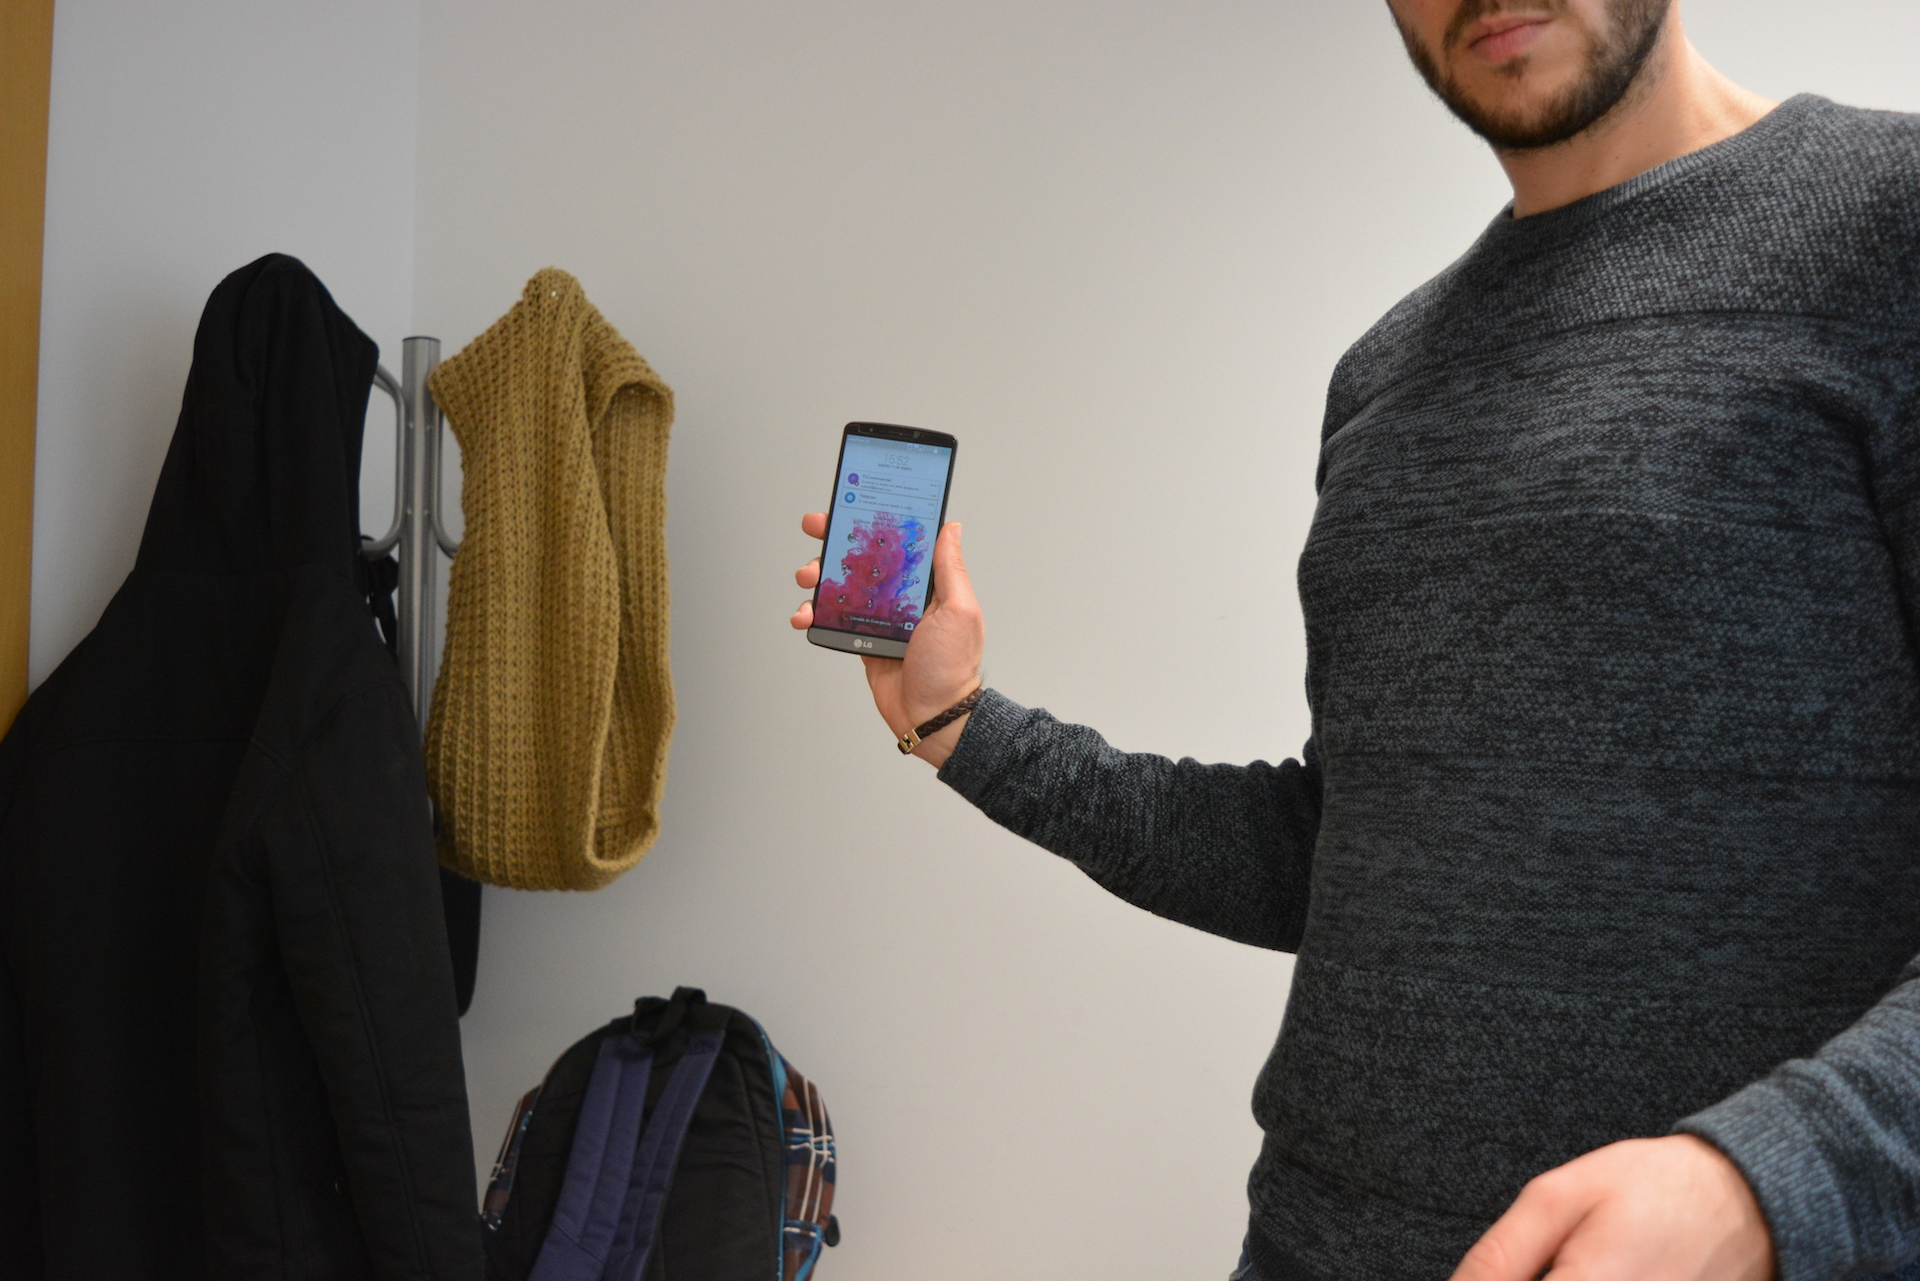smartphone: (805, 420, 959, 661)
